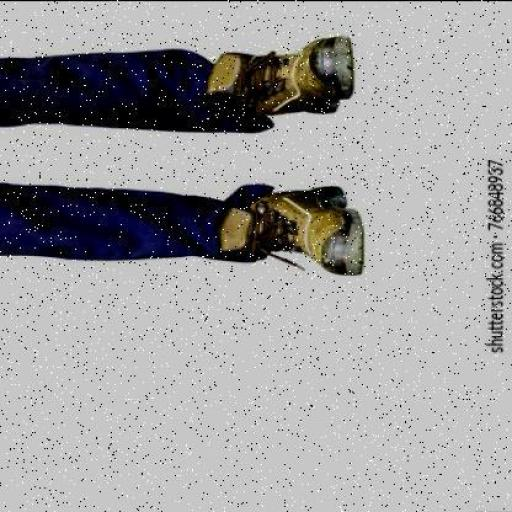safety_shoe: (234, 175, 367, 275), (224, 34, 353, 116)
